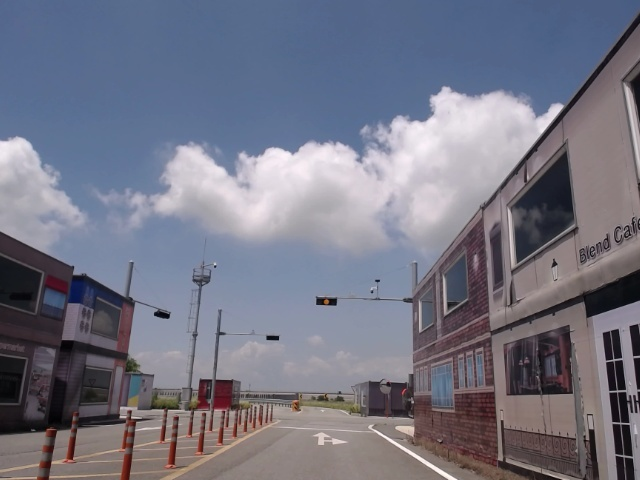orange_3: (315, 296, 338, 305)
